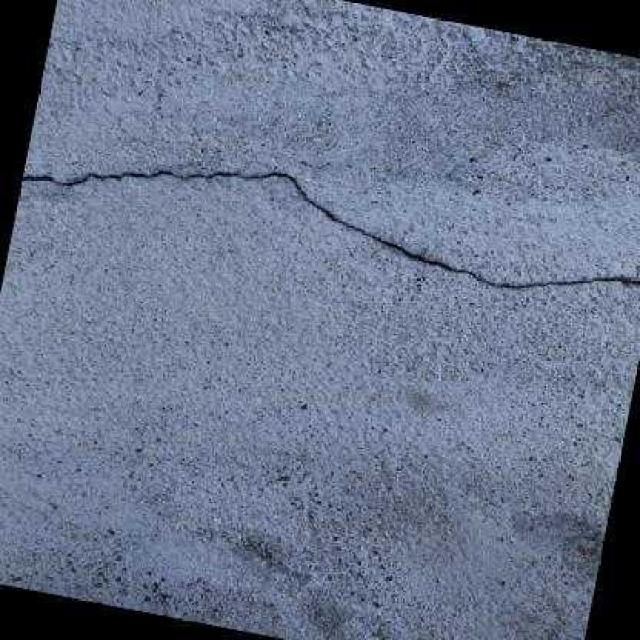D00: (21, 169, 640, 287)
